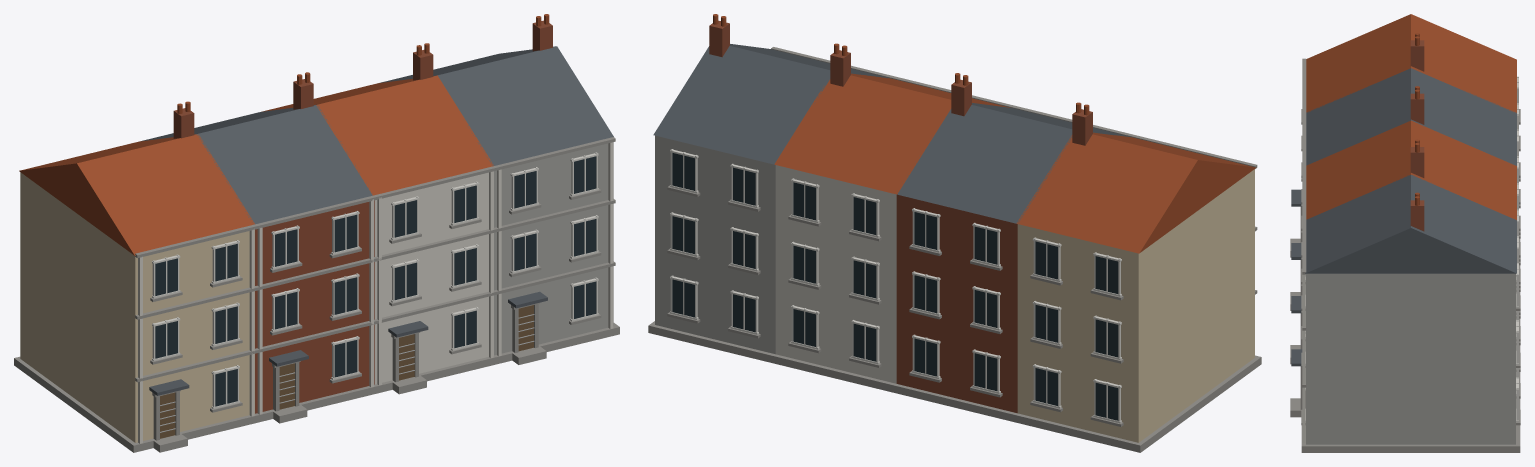
The model's file is Scenery_Townhouse_Row.fbx.
3 views of the same model, side by side, from view 1: azimuth 30°, elevation 25°; view 2: azimuth 150°, elevation 25°; view 3: azimuth 270°, elevation 25° (orthographic). The views are drawn at different scales.
Visible parts, largest first — view 1: Scenery_Townhouse_Row_LOD0; view 2: Scenery_Townhouse_Row_LOD0; view 3: Scenery_Townhouse_Row_LOD0.
Part boxes in pixels (x1,y1,x2,y2): Scenery_Townhouse_Row_LOD0: [14, 14, 619, 452]; Scenery_Townhouse_Row_LOD0: [648, 14, 1261, 452]; Scenery_Townhouse_Row_LOD0: [1290, 14, 1520, 452].
Size of what is drawn, in the model's own units: 24.4 by 13.2 by 10.97.
